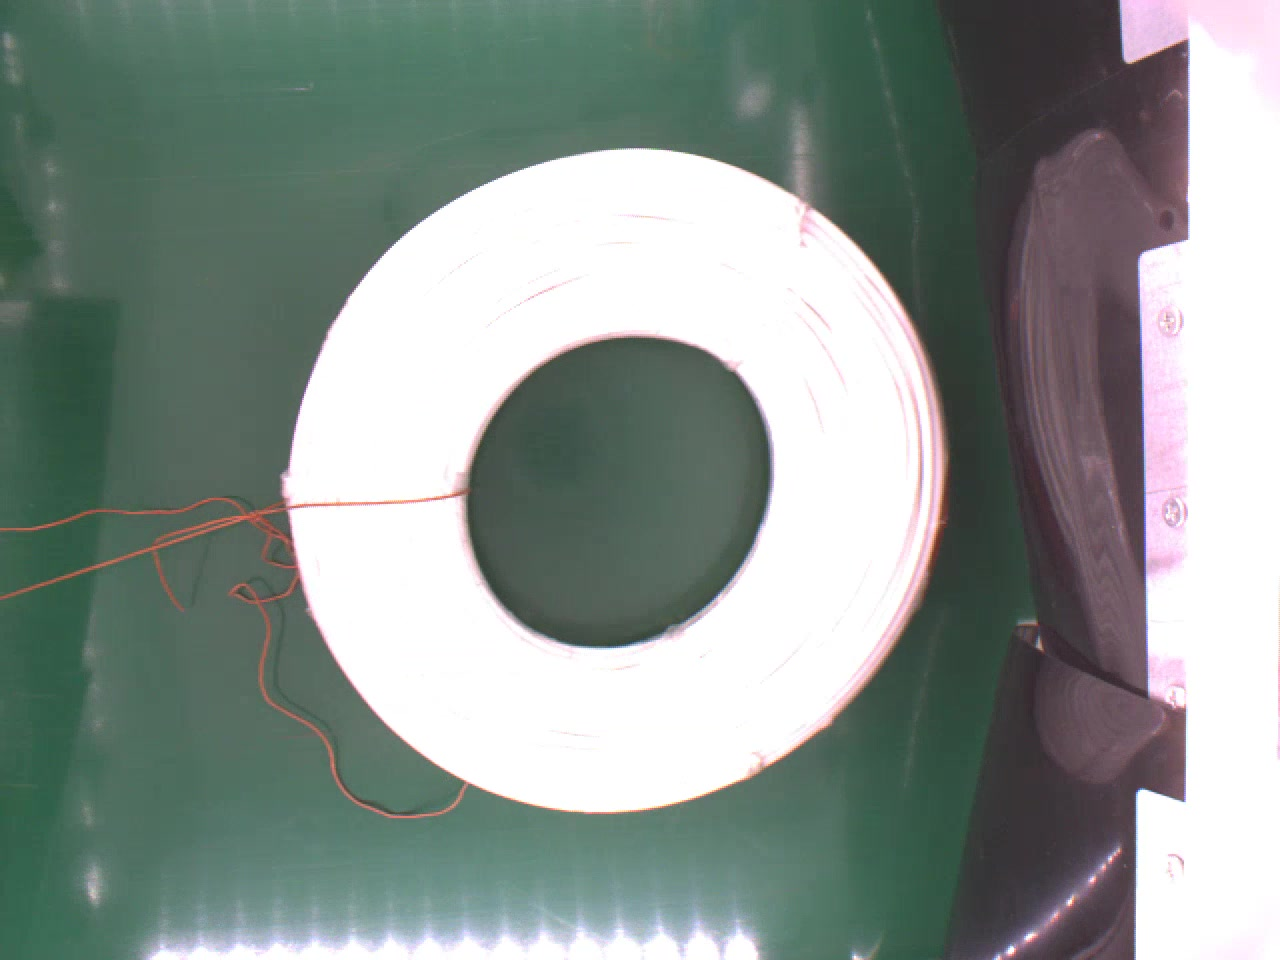white: (286, 141, 954, 822)
